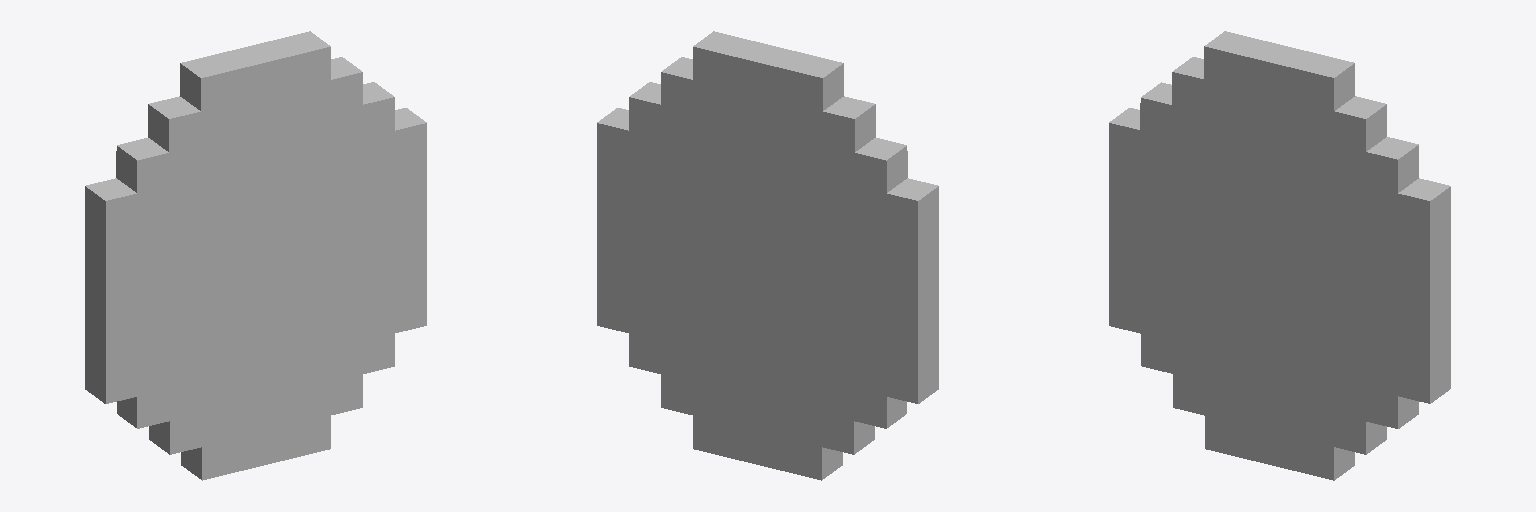
The model's file is emerald.obj.
3 views of the same model, side by side, from view 1: azimuth 30°, elevation 25°; view 2: azimuth 150°, elevation 25°; view 3: azimuth 330°, elevation 25° (orthographic).
Visible parts, largest first — view 1: Minecraft_Emerald; view 2: Minecraft_Emerald; view 3: Minecraft_Emerald.
Boxes of the visible parts, x1=… form: Minecraft_Emerald: x1=85, y1=31, x2=426, y2=480; Minecraft_Emerald: x1=597, y1=31, x2=938, y2=480; Minecraft_Emerald: x1=1109, y1=31, x2=1450, y2=480.
Size of the model in its own units: 315 by 377 by 35.44.